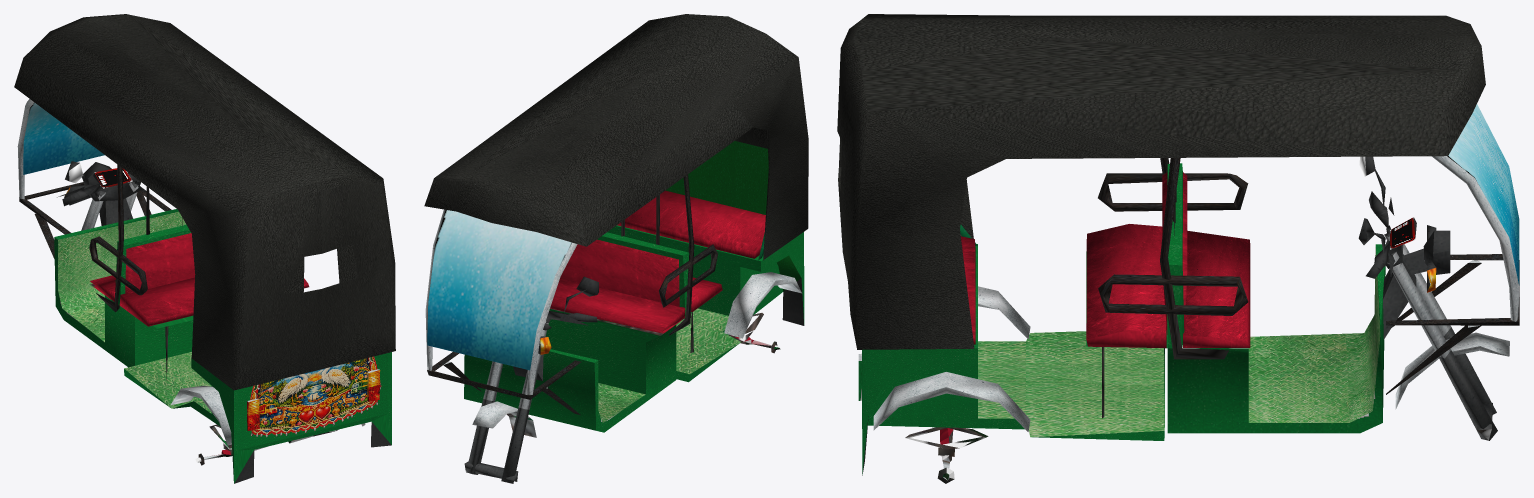
Rendered from Rickshaw_Tomtom2_NPC.fbx.
The picture shows the model from 3 angles, left to right: view 1: azimuth 30°, elevation 25°; view 2: azimuth 150°, elevation 25°; view 3: azimuth 270°, elevation 25°; orthographic projection. The views are drawn at different scales.
Visible parts, largest first — view 1: seat_base; view 2: seat_base; view 3: seat_base.
Part boxes in pixels (box(x1,y1,x2,y2)): seat_base: box(14, 14, 395, 483); seat_base: box(424, 14, 808, 483); seat_base: box(837, 14, 1519, 483).
Size of the model in its own units: 1.05 by 1.69 by 2.66.
